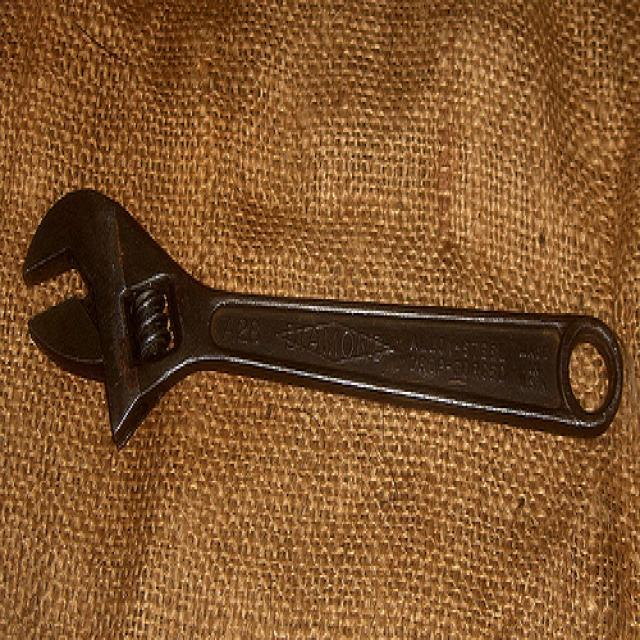wrench: (17, 176, 629, 463)
